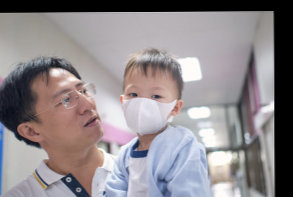with_mask: (122, 81, 178, 137)
without_mask: (41, 79, 105, 151)
